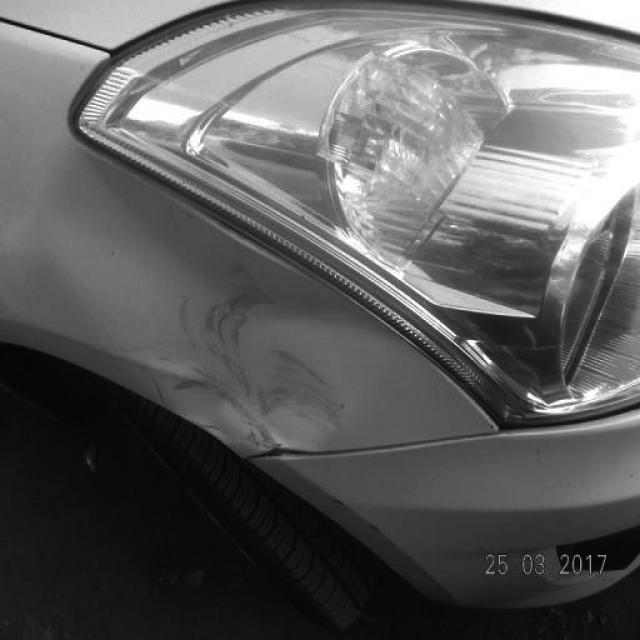car damage: (168, 266, 348, 462)
